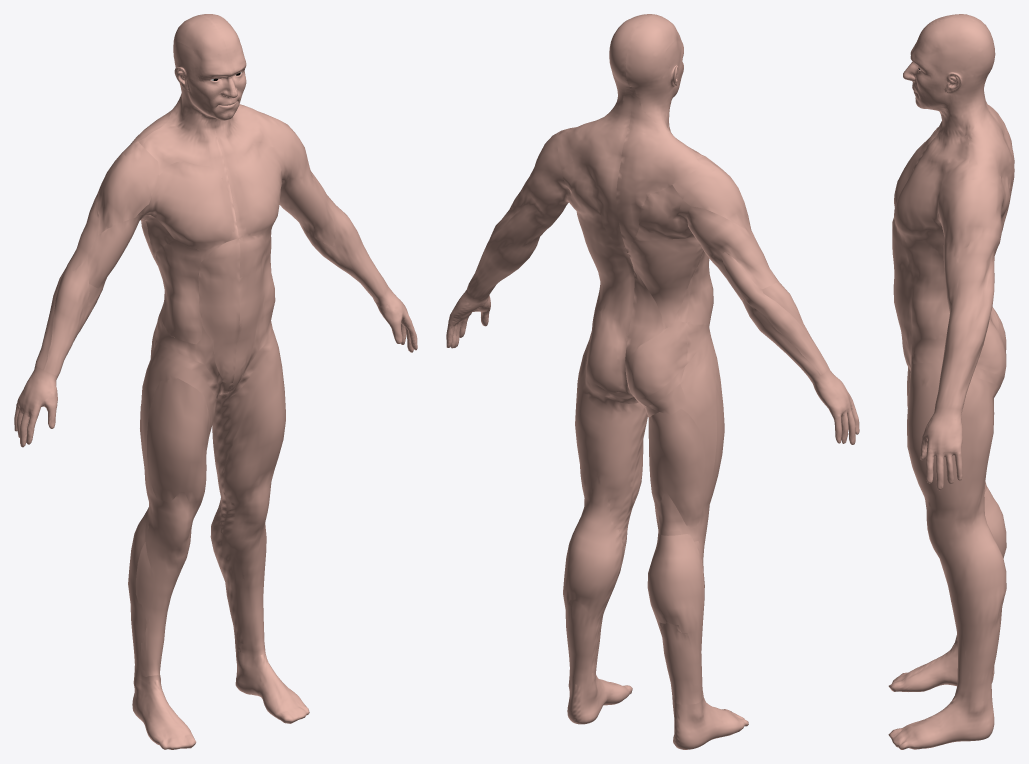
The model's file is Male4.glb.
The picture shows the model from 3 angles, left to right: view 1: azimuth 30°, elevation 25°; view 2: azimuth 150°, elevation 25°; view 3: azimuth 270°, elevation 25°; orthographic projection. The views are drawn at different scales.
Visible parts, largest first — view 1: IKKE RØR ORIGINALEN, Resten, Quads, Chest, Head, Abs, External Oblique, Shoulders Deltoid, Forearms, Feet, Calfs, Hand (Grip) (+3 smaller); view 2: IKKE RØR ORIGINALEN, Resten, Traps, Hamstrings, Calfs, Head, Glutes, Lats, Triceps Brachii, Shoulders Deltoid, Feet, Middle back (+4 smaller); view 3: IKKE RØR ORIGINALEN, Feet, Calfs, Chest, Resten, Head, Traps.
Part boxes in pixels (<box>): IKKE RØR ORIGINALEN: <box>200,14,417,723</box>; Resten: <box>35,120,242,676</box>; Quads: <box>147,378,208,518</box>; Chest: <box>136,161,234,249</box>; Head: <box>169,14,235,137</box>; Abs: <box>198,237,243,383</box>; External Oblique: <box>155,240,202,344</box>; Shoulders Deltoid: <box>97,141,159,234</box>; Forearms: <box>44,225,336,376</box>; Feet: <box>132,670,196,749</box>; Calfs: <box>128,507,178,655</box>; Hand (Grip): <box>14,366,57,447</box>; IKKE RØR ORIGINALEN: <box>446,14,654,724</box>; Resten: <box>623,133,828,704</box>; Traps: <box>616,86,698,252</box>; Hamstrings: <box>648,408,705,534</box>; Calfs: <box>647,533,704,685</box>; Head: <box>623,14,683,132</box>; Glutes: <box>627,321,687,415</box>; Lats: <box>630,235,703,329</box>; Triceps Brachii: <box>687,206,776,301</box>; Shoulders Deltoid: <box>672,156,755,241</box>; Feet: <box>672,695,748,749</box>; Middle back: <box>635,185,692,240</box>; IKKE RØR ORIGINALEN: <box>888,17,1014,749</box>; Feet: <box>888,638,994,691</box>; Calfs: <box>984,487,1006,558</box>; Chest: <box>894,138,928,207</box>; Resten: <box>908,126,999,641</box>; Head: <box>903,14,994,130</box>; Traps: <box>984,92,1014,165</box>.
Size of the model in its own units: 1.19 by 2 by 0.3284.
